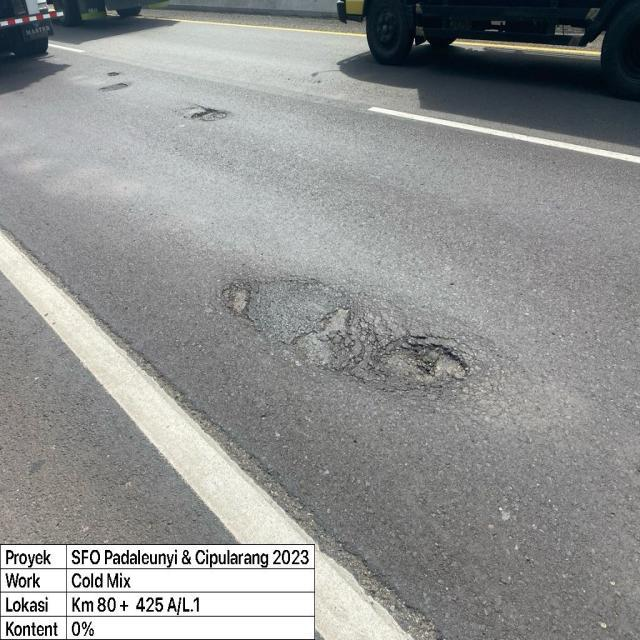Buraco: (372, 337, 472, 391), (288, 303, 356, 371), (220, 280, 257, 329), (176, 102, 232, 124), (97, 82, 131, 94), (106, 71, 121, 78)
